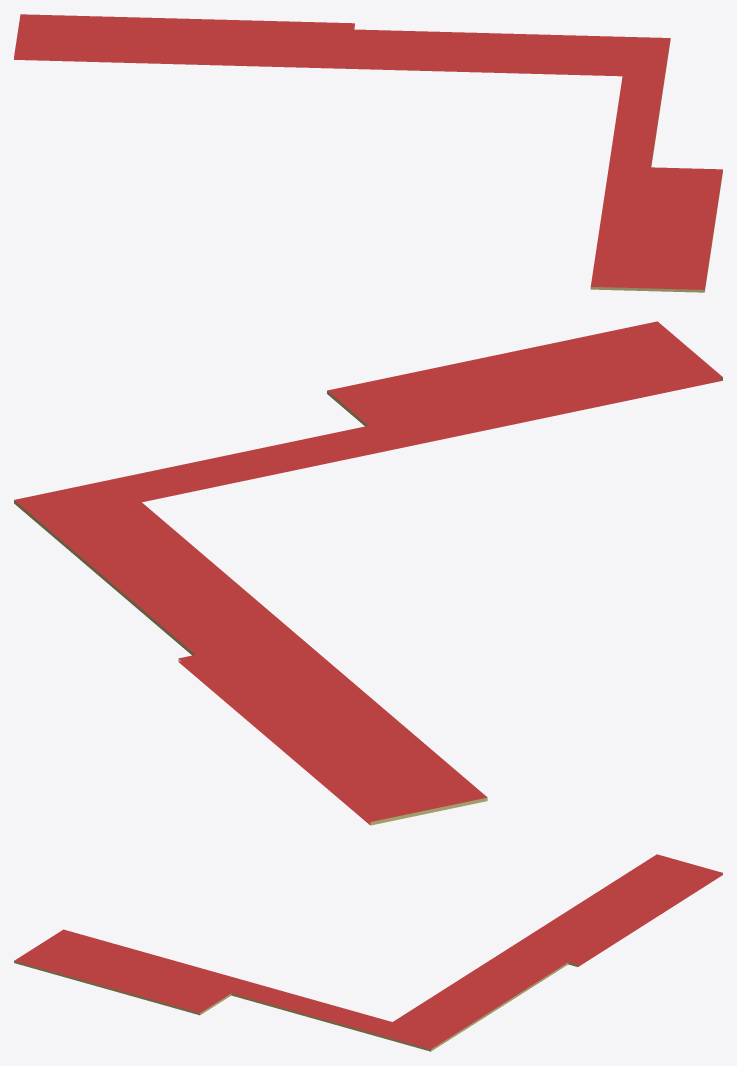
The picture shows the model from 3 angles, top to bottom: view 1: azimuth 30°, elevation 25°; view 2: azimuth 150°, elevation 25°; view 3: azimuth 270°, elevation 25°; orthographic projection. The views are drawn at different scales.
Visible parts, largest first — view 1: group_3, group_5, group_4; view 2: group_3, group_5, group_4; view 3: group_3, group_4, group_5.
Boxes of the visible parts, box(x1,y1,x2,y2) form: group_3: box(14, 14, 722, 289); group_5: box(14, 57, 622, 76); group_4: box(14, 24, 722, 292); group_3: box(14, 321, 722, 821); group_5: box(139, 378, 722, 824); group_4: box(14, 377, 722, 825); group_3: box(14, 854, 722, 1049); group_4: box(14, 873, 722, 1051); group_5: box(578, 874, 722, 966).
Size of the model in its own units: 19.5 by 29.92 by 0.1.
